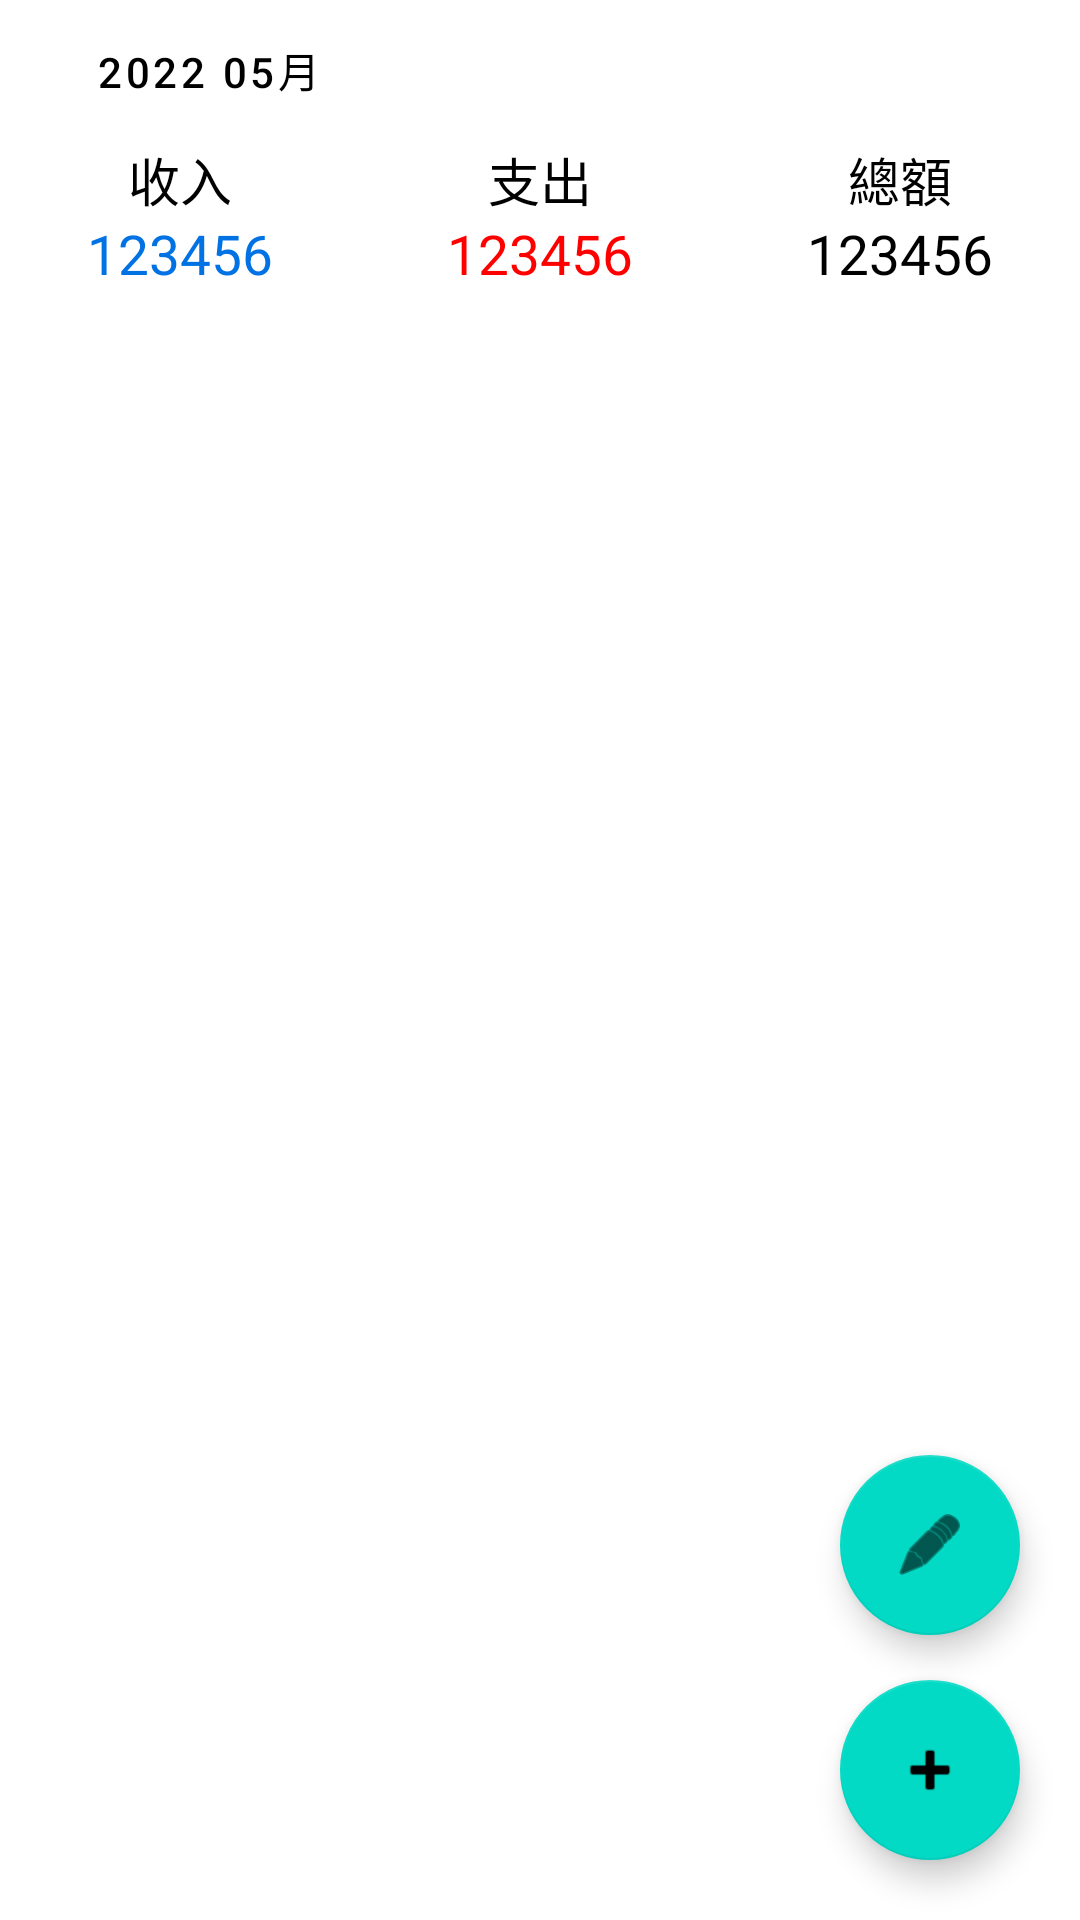

Icons on this 1080×1920 Android screen, each with the point to tap as (x,y):
add: (930,1770)
edit: (930,1545)
